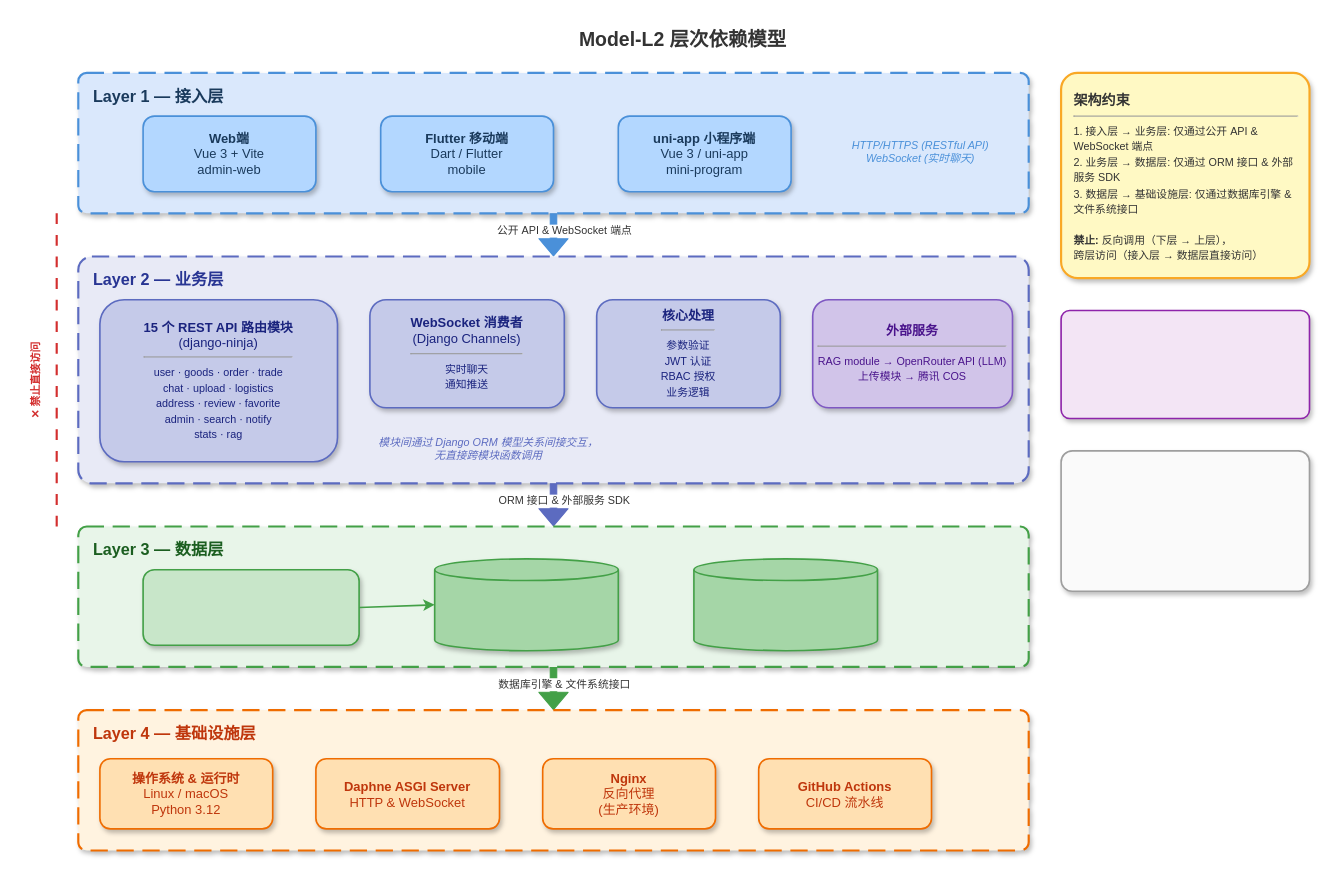
Image size: 1335x877. Some labels were removed from this diagram. Here are the shapes that lost their labels. From the top down, the centre of each, then its label:
[1185,365]: 依赖方向 ↓ 上层依赖下层 ✕ 禁止反向调用 ✕ 禁止跨层访问
[1185,522]: 颜色图例 🔵 蓝色 — 接入层 🟣 靛蓝 — 业务层 🟢 绿色 — 数据层 🟠 橙色 — 基础设施层 🟡 黄色 — 架构约束
[251,608]: Django ORM 对象 → SQL 转换 模型定义 & 迁移
[527,606]: SQLite 单文件存储 backend/db.sqlite3 完整 ACID 支持
[786,606]: ChromaDB 向量数据库 RAG 语义搜索
